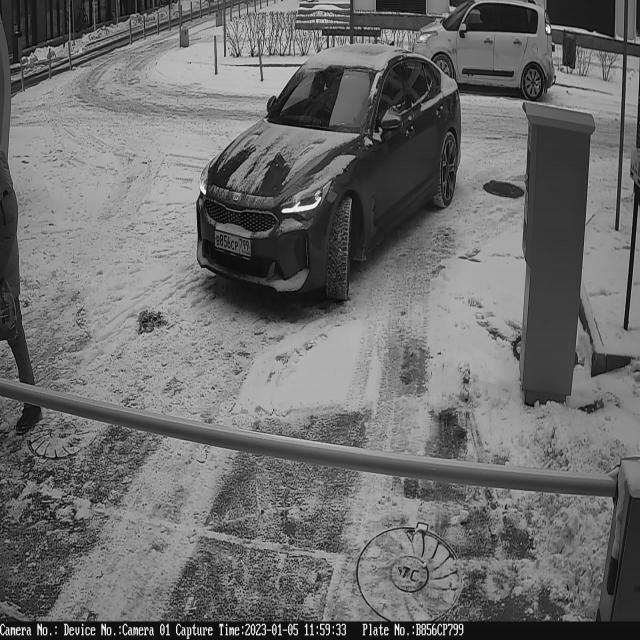car-plate-numbers: (212, 229, 255, 261)
